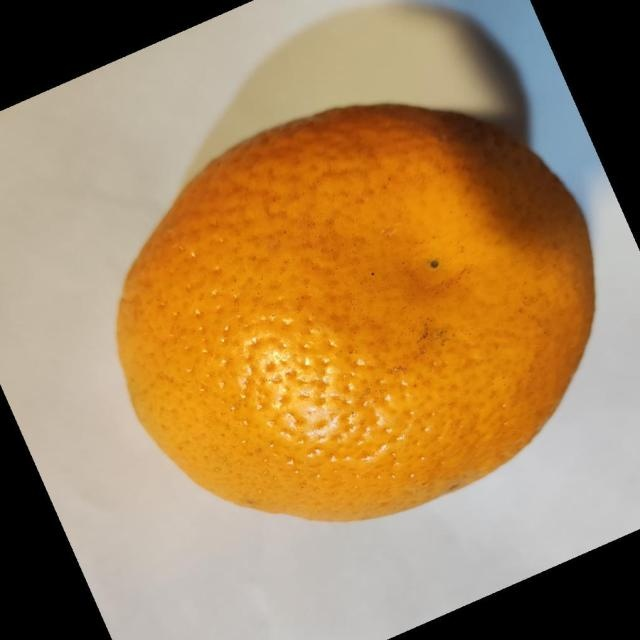agrume: (114, 101, 596, 523)
